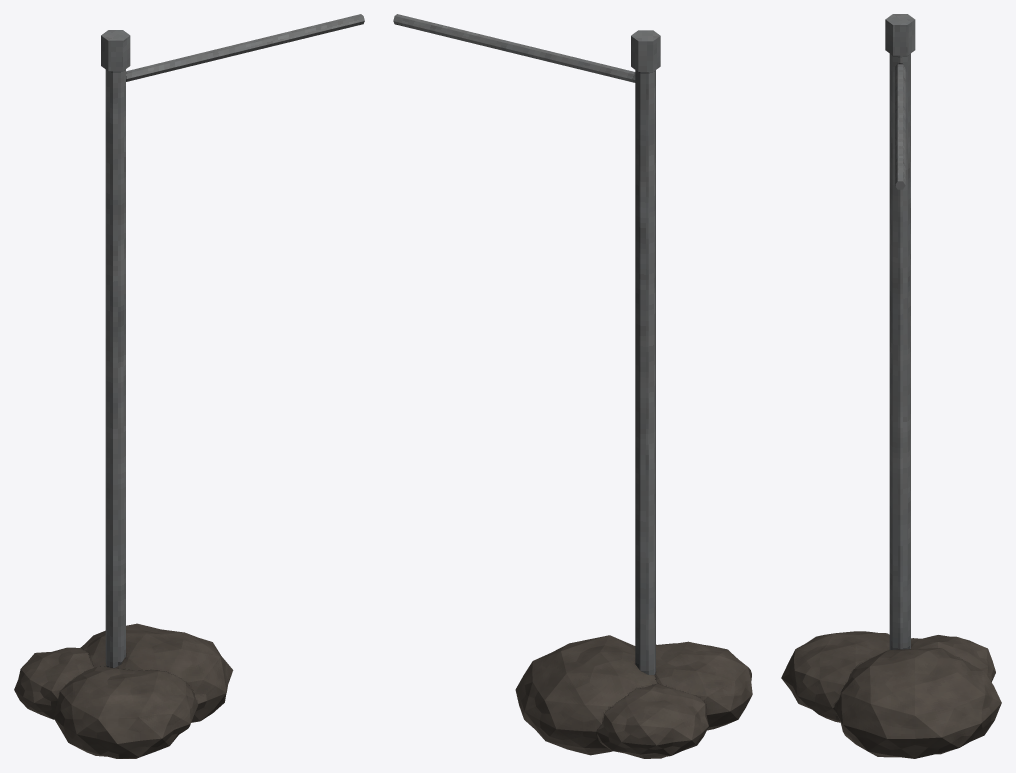
The model's file is arena_mine_flag.glb.
3 views of the same model, side by side, from view 1: azimuth 30°, elevation 25°; view 2: azimuth 150°, elevation 25°; view 3: azimuth 270°, elevation 25° (orthographic).
Parts seen in each view (by area): view 1: arena_mine_flag; view 2: arena_mine_flag; view 3: arena_mine_flag.
Boxes of the visible parts, x1,y1,x2,y2 form: arena_mine_flag: (14,14,364,758); arena_mine_flag: (393,14,752,758); arena_mine_flag: (781,14,1001,758).
Size of the model in its own units: 1.76 by 3.66 by 1.04.
Materials: 2 (2 with a texture image).
